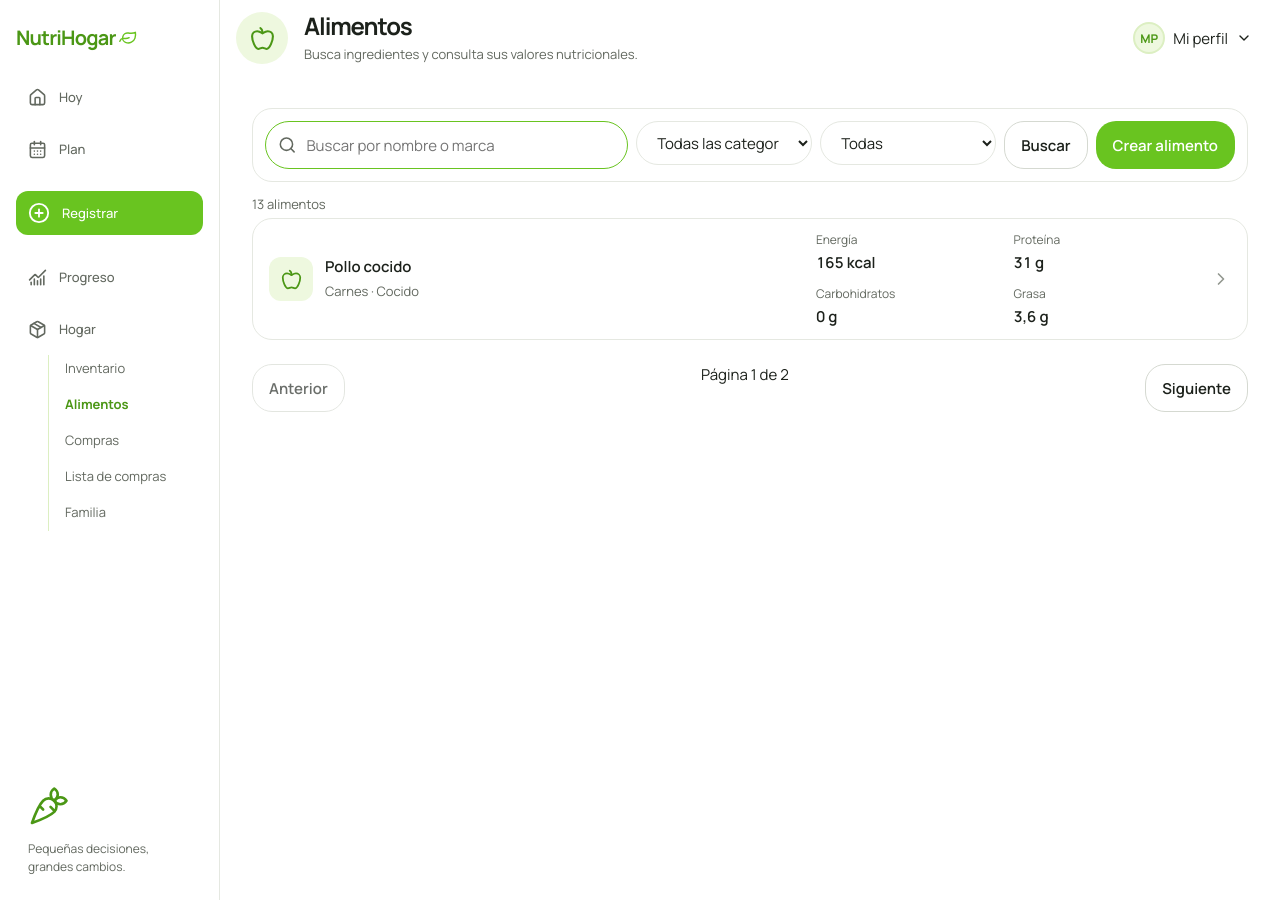
it: FoodCatalogPage › paginates results and shows an empty state
Expected: the link "Pollo cocido" is shown, [253,219,1247,339]
Click the button "Siguiente": x=1197, y=388 [1145,364,1248,412]
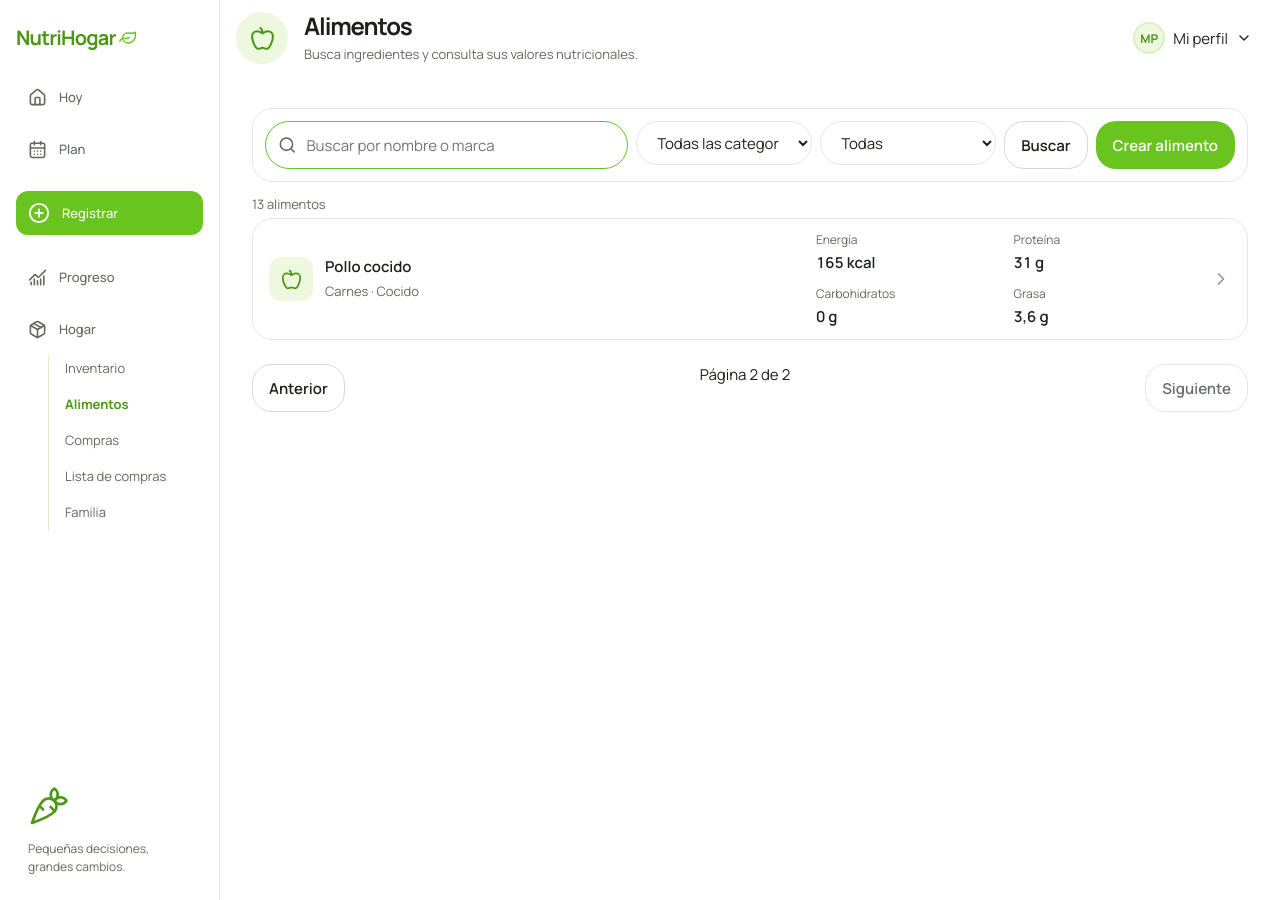
In the search field named "Buscar alimentos": x=460, y=145 [304,134,615,157], type "inexistente"
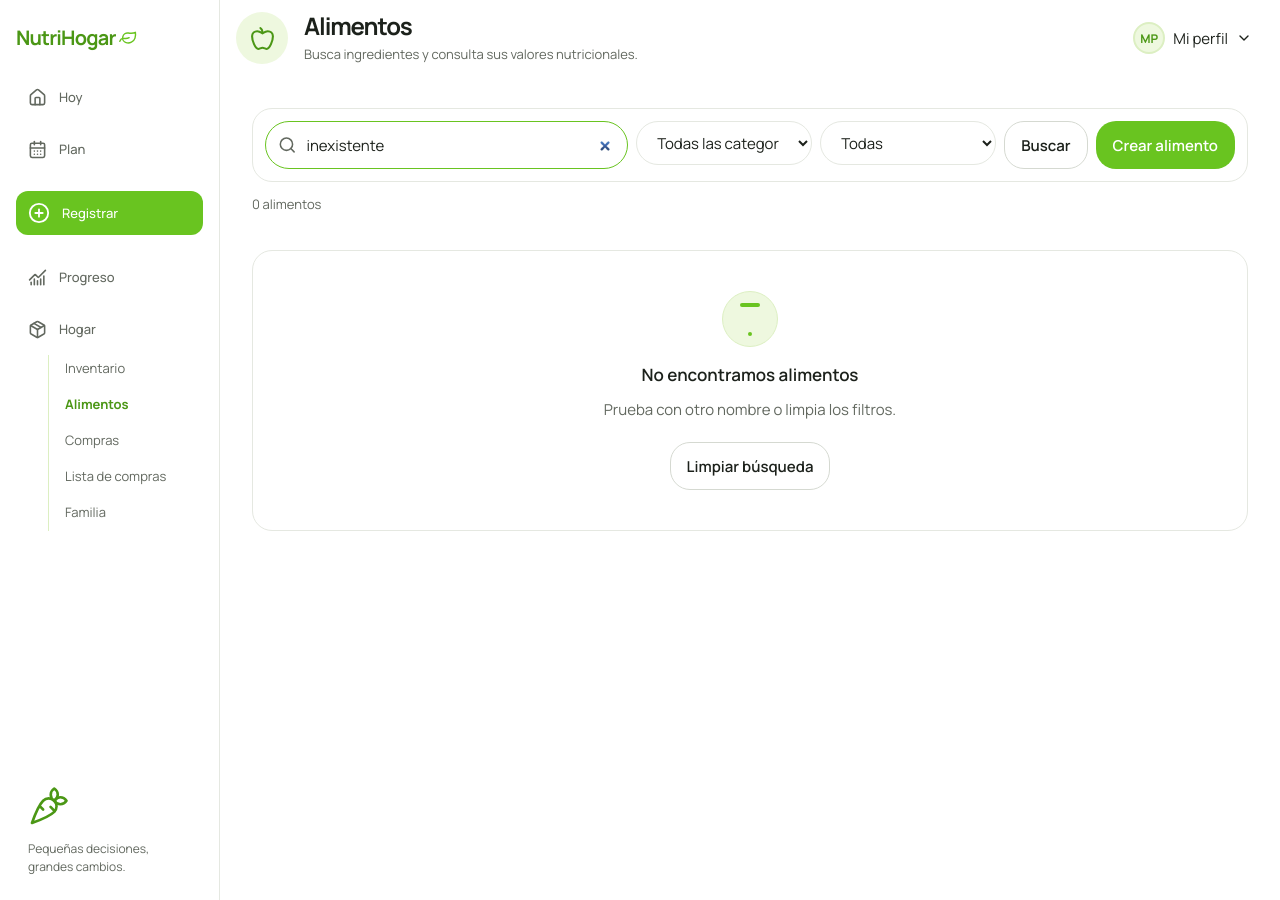
Expected: the heading "No encontramos alimentos" is shown, [642,363,858,386]
